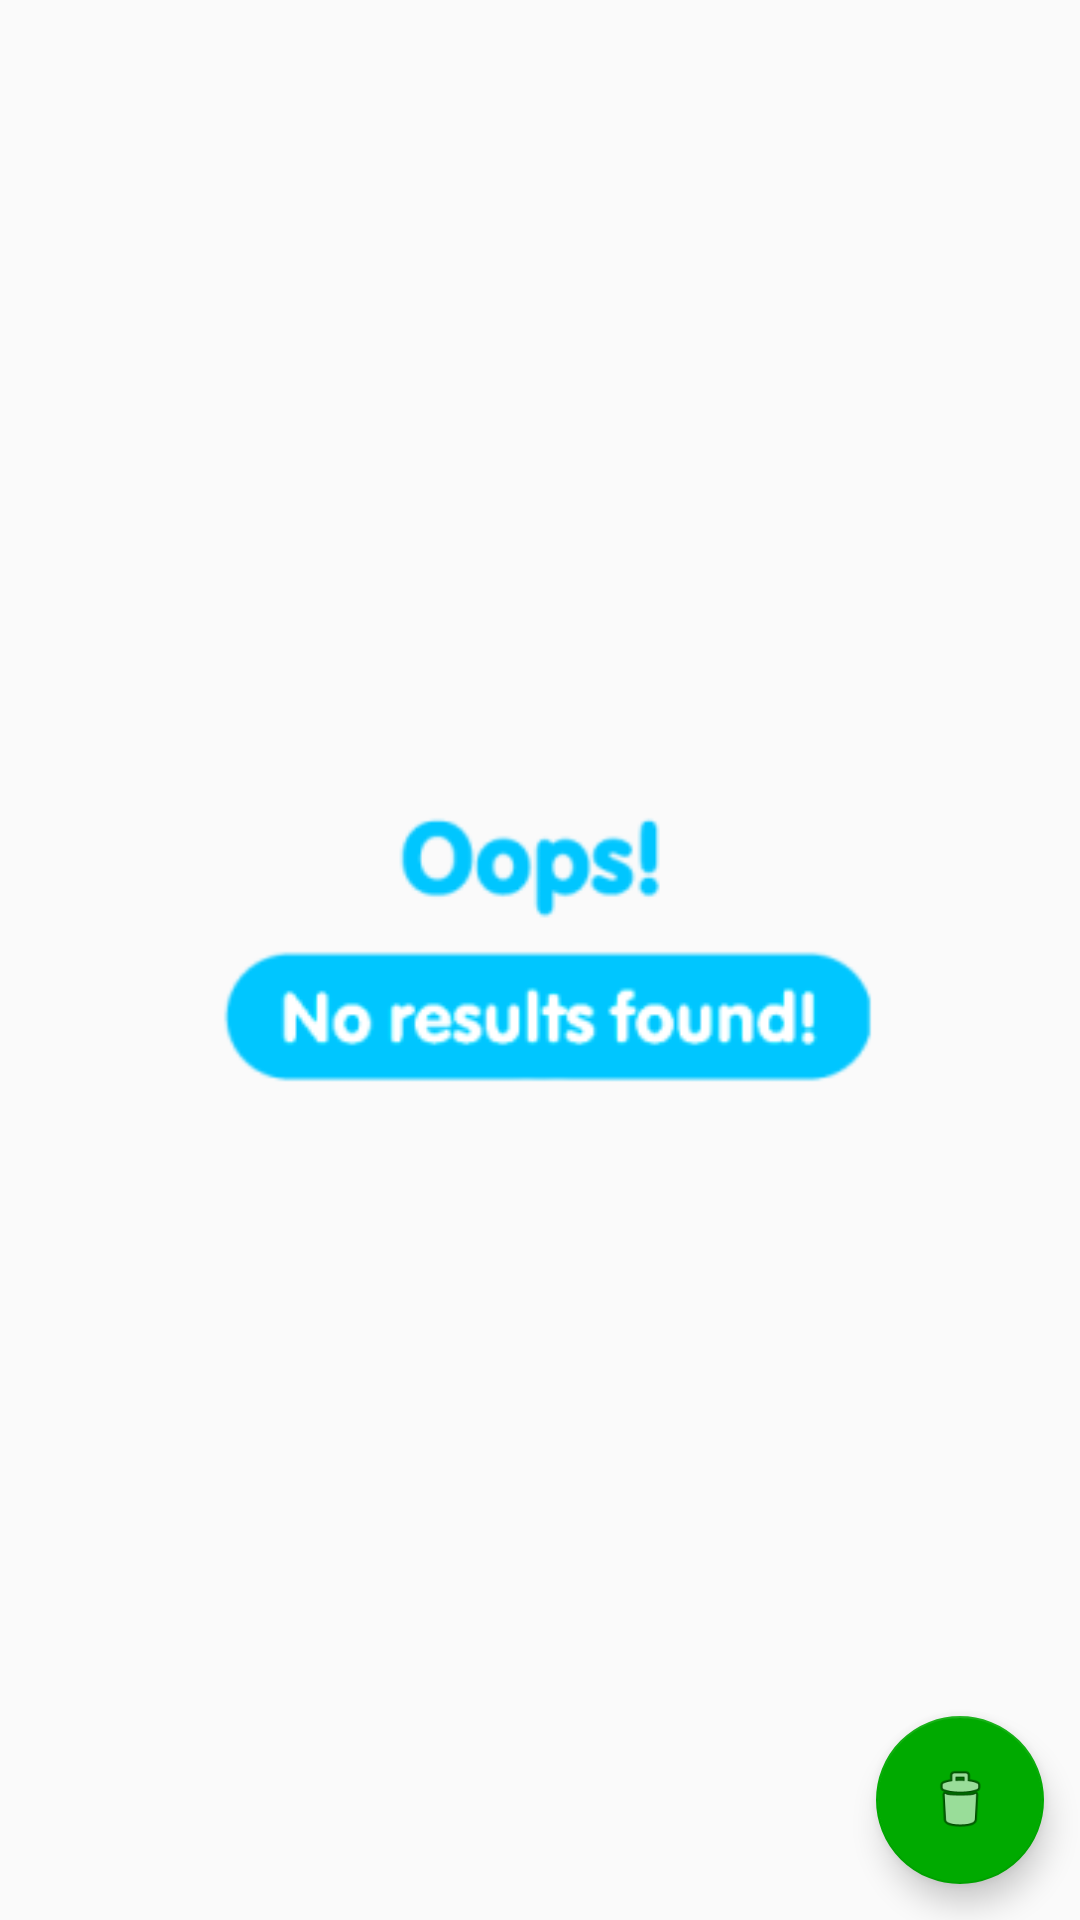

Locate icon controls on the screen. Image size 1080 x 1920, boxes as box(x1, y1, x2, y2).
delete: box(876, 1716, 1044, 1884)
